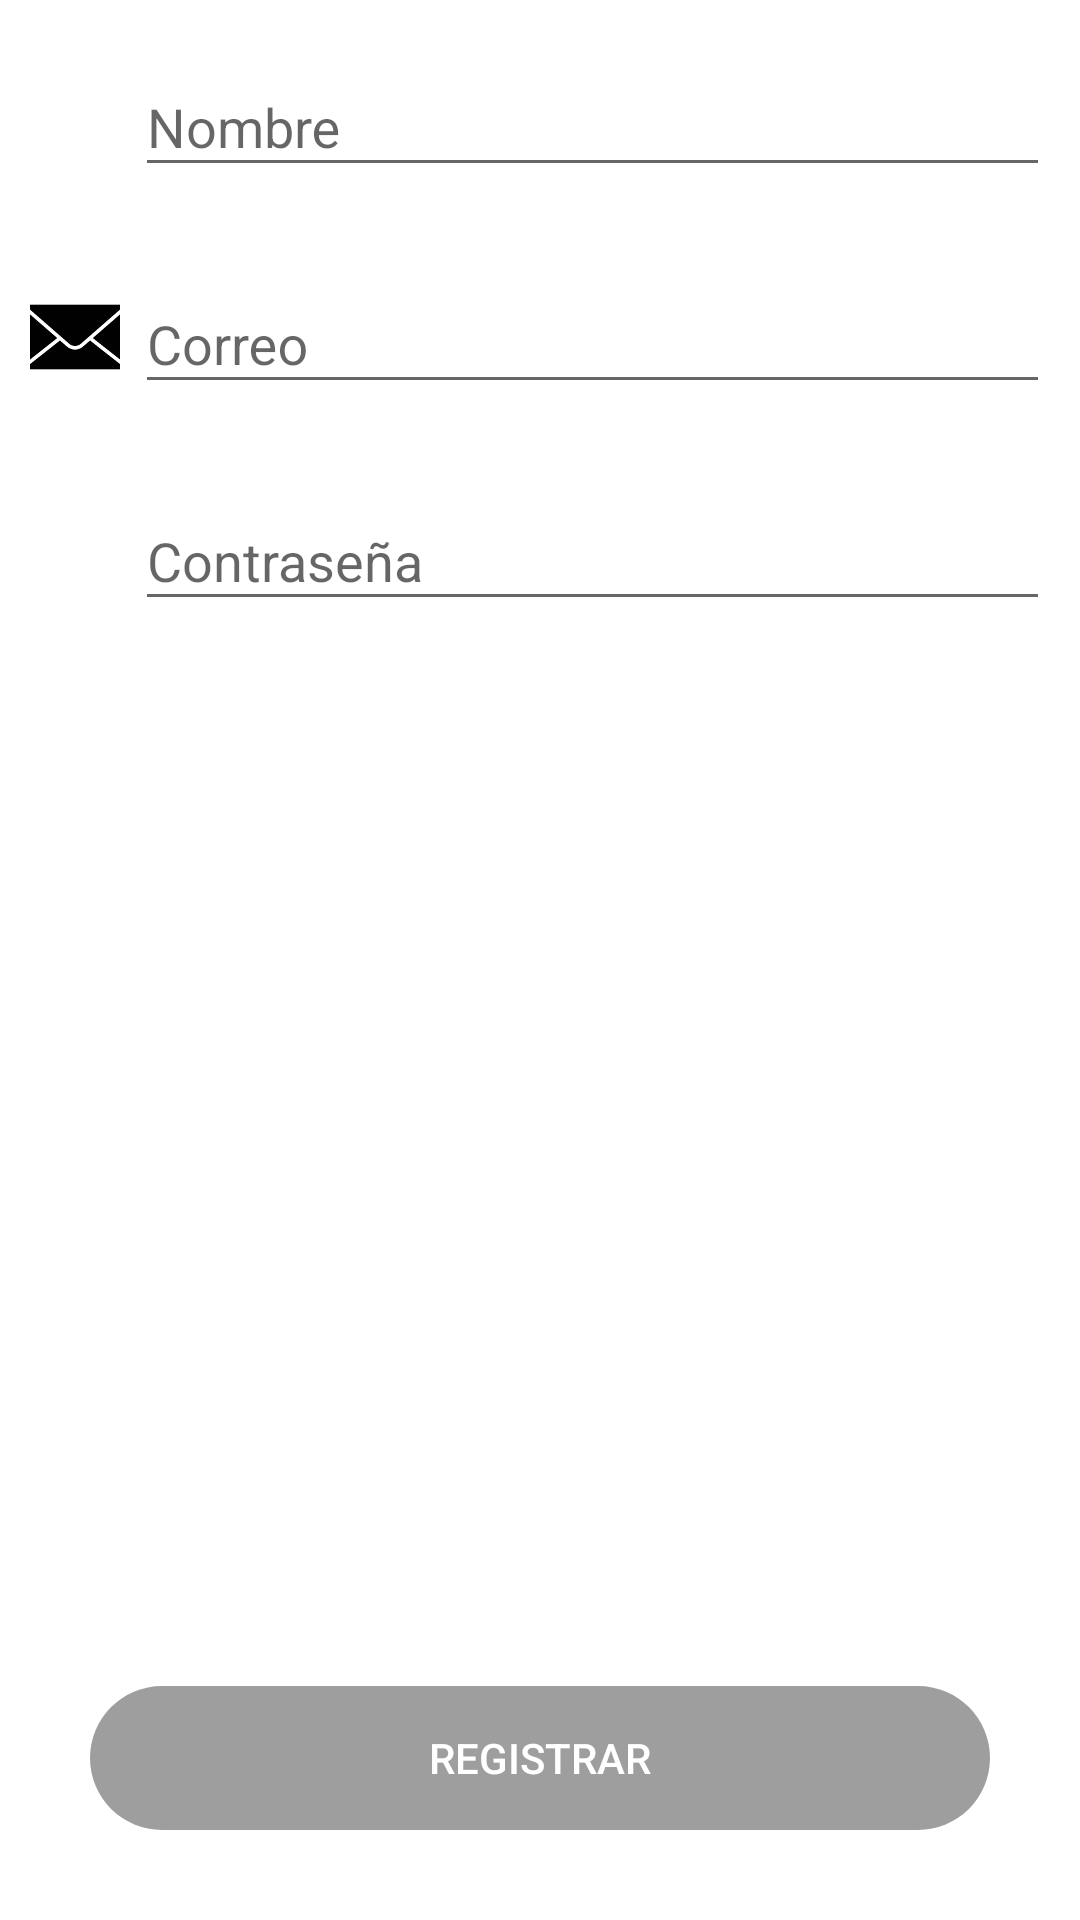

Locate icon controls on the screen. Image size 1080px×1920px, boxes as (x1, y1, x2, y2).
mensaje: (30, 304, 120, 370)
